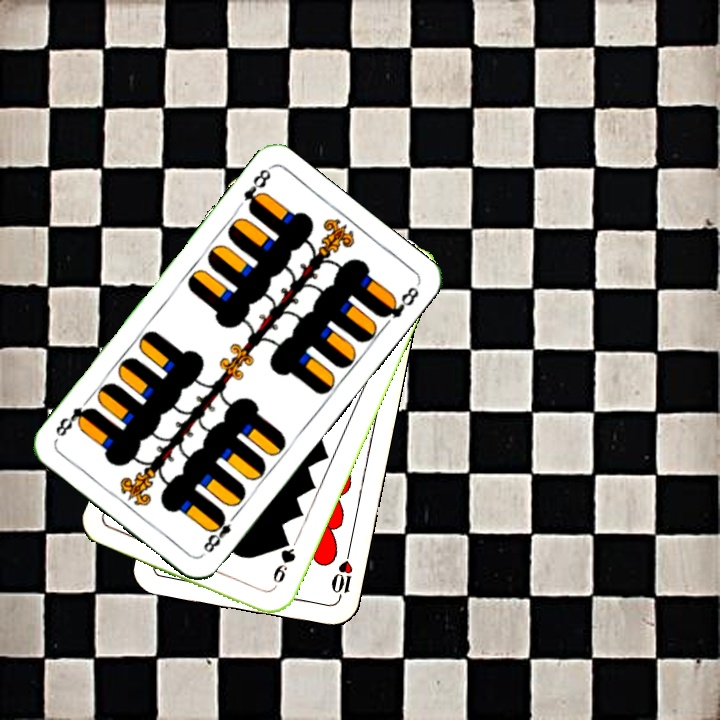E8: (199, 508, 241, 556), (239, 164, 274, 216)
G9: (268, 535, 298, 592)
H10: (327, 546, 356, 605)
